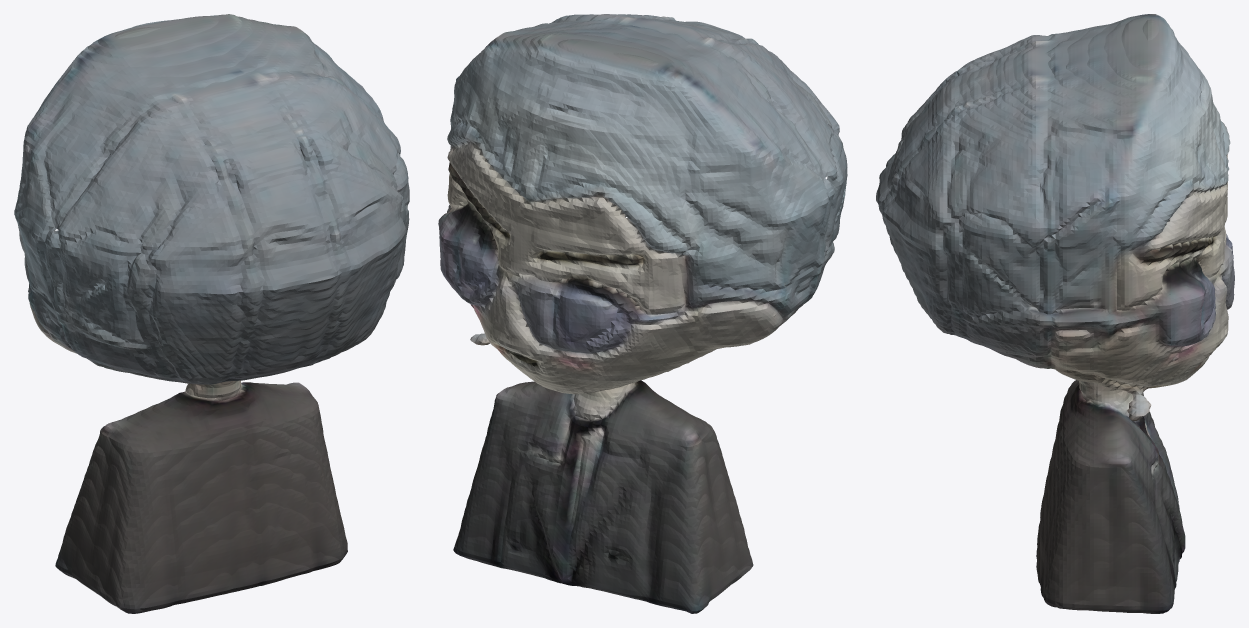
The model's file is replicate-prediction-q4gy4ezbq7gm525euoz5wpikxq(1).glb.
3 views of the same model, side by side, from view 1: azimuth 30°, elevation 25°; view 2: azimuth 150°, elevation 25°; view 3: azimuth 270°, elevation 25° (orthographic). The views are drawn at different scales.
Visible parts, largest first — view 1: world; view 2: world; view 3: world.
Part boxes in pixels (<box>): world: <box>14,14,409,613</box>; world: <box>438,14,847,613</box>; world: <box>876,14,1234,613</box>.
Size of the model in its own units: 0.6909 by 0.9983 by 0.635.
